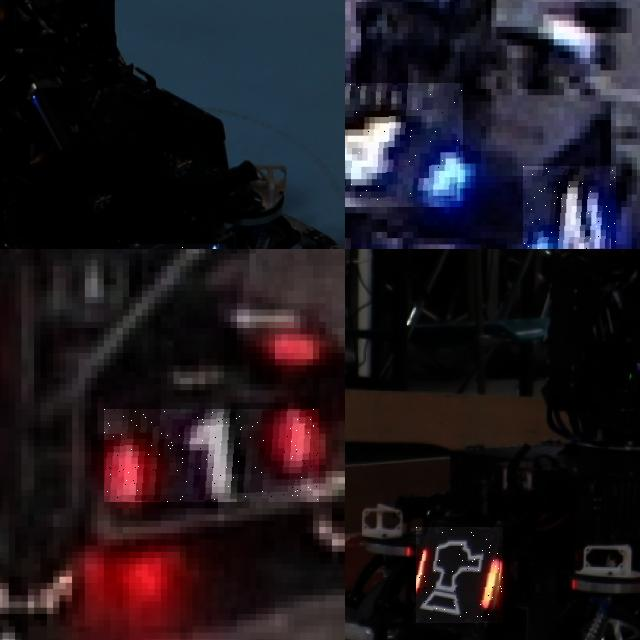B4: (345, 82, 462, 207), (522, 166, 616, 249)
R1: (104, 409, 319, 502)
Rs: (416, 527, 503, 623)
